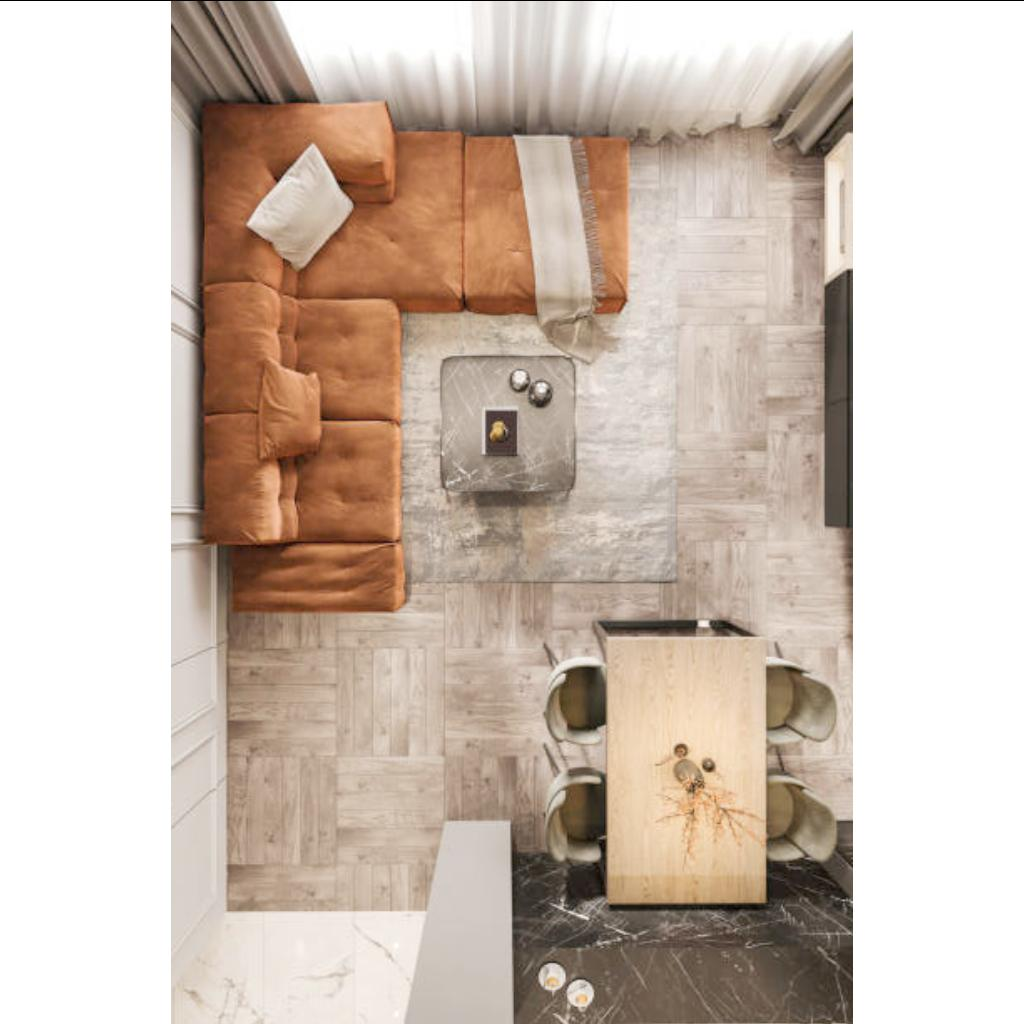TV stand: (819, 136, 851, 534)
chair: (770, 772, 838, 862), (772, 655, 838, 745), (540, 655, 604, 747), (542, 773, 602, 863)
chair-bed: (202, 104, 458, 300)
coffee table: (438, 353, 578, 493)
dining table: (606, 638, 766, 904)
ottoman: (464, 136, 630, 312)
rug: (325, 186, 679, 584)
sofa: (202, 305, 402, 609)
window: (173, 1, 545, 19), (549, 0, 853, 18)
